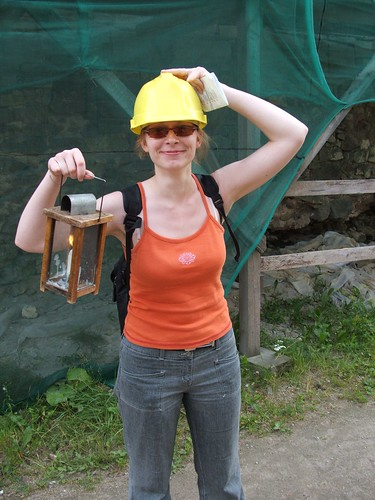person hardhat: (27, 58, 307, 500)
